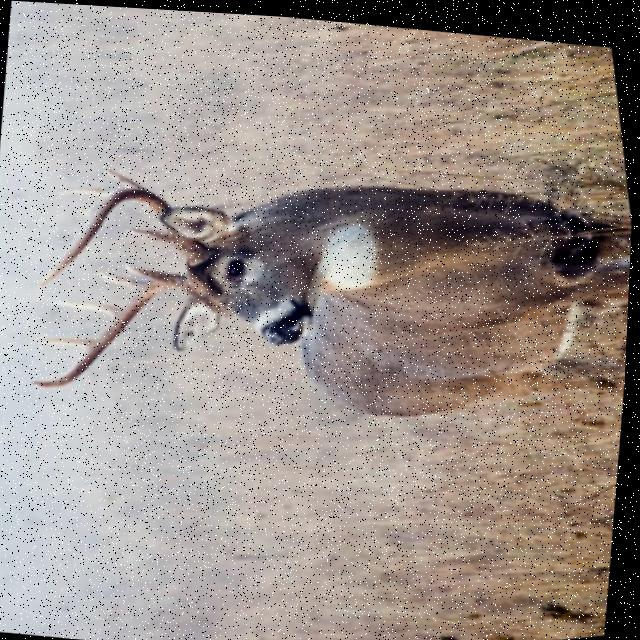L-G1: (127, 225, 174, 240)
R-G1: (127, 259, 173, 278)
R-G2: (100, 269, 152, 287)
R-G3: (52, 298, 124, 313)
R-G4: (39, 335, 100, 345)
